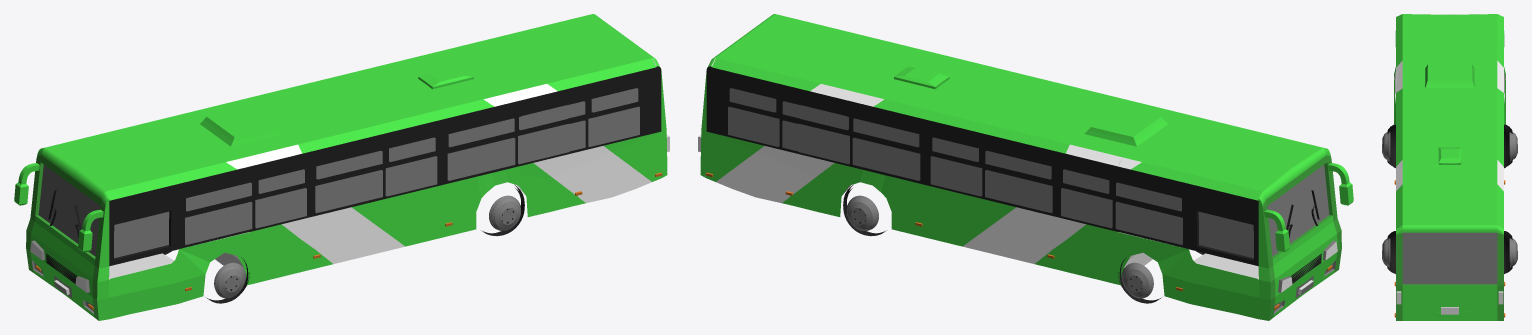
File: bus2.fbx
3 views of the same model, side by side, from view 1: azimuth 30°, elevation 25°; view 2: azimuth 150°, elevation 25°; view 3: azimuth 270°, elevation 25° (orthographic). The views are drawn at different scales.
Parts seen in each view (by area): view 1: Cube; view 2: Cube; view 3: Cube.
Boxes of the visible parts, box(x1,y1,x2,y2) form: Cube: box(14, 14, 669, 320); Cube: box(698, 14, 1353, 320); Cube: box(1382, 14, 1517, 320).
Size of the model in its own units: 1020 by 239 by 259.
